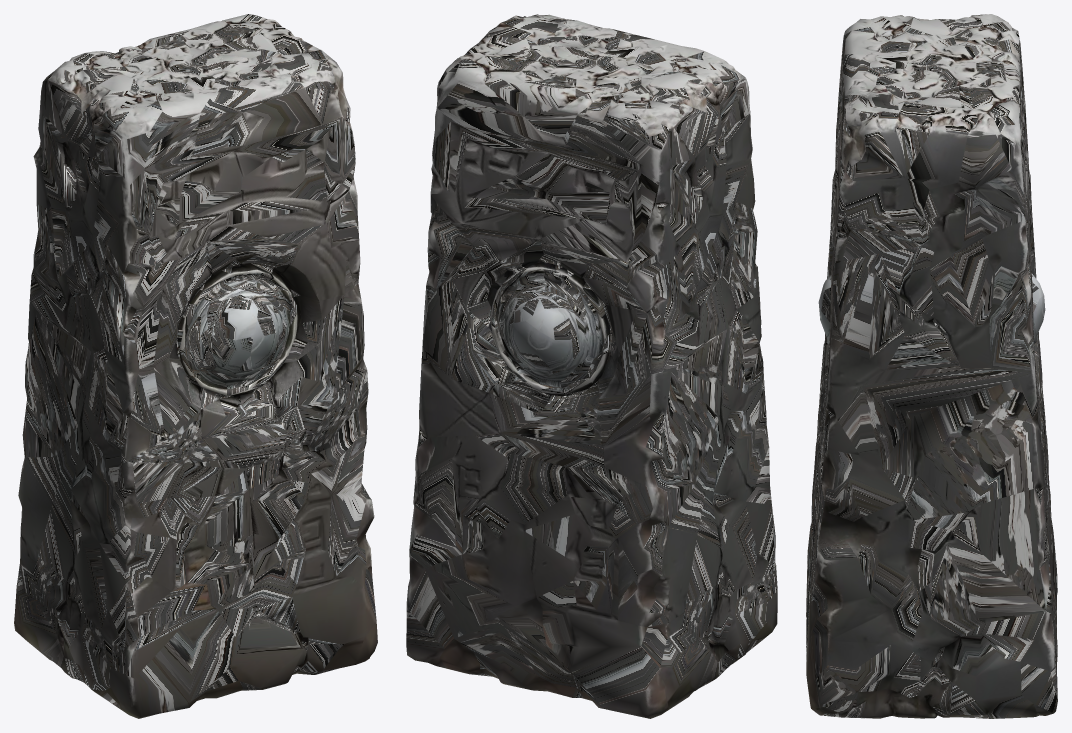
The model's file is Ancient_Stone_Relic.glb.
3 views of the same model, side by side, from view 1: azimuth 30°, elevation 25°; view 2: azimuth 150°, elevation 25°; view 3: azimuth 270°, elevation 25° (orthographic).
Visible parts, largest first — view 1: Ancient_Stone_Relic; view 2: Ancient_Stone_Relic; view 3: Ancient_Stone_Relic.
Part boxes in pixels (x1,y1,x2,y2): Ancient_Stone_Relic: [14, 14, 377, 718]; Ancient_Stone_Relic: [406, 14, 777, 718]; Ancient_Stone_Relic: [806, 14, 1057, 718].
Size of the model in its own units: 0.886 by 1.9 by 0.7318.
1 material, 1 textured.
